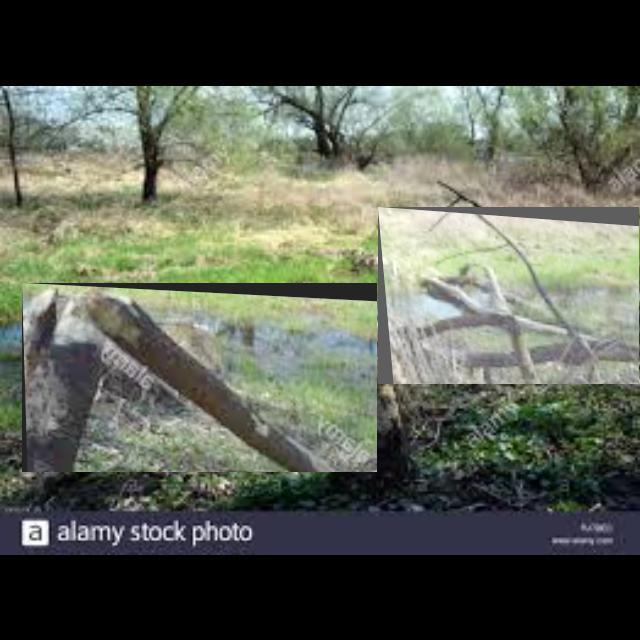fallen_tree: (22, 283, 378, 473), (378, 207, 640, 385)
